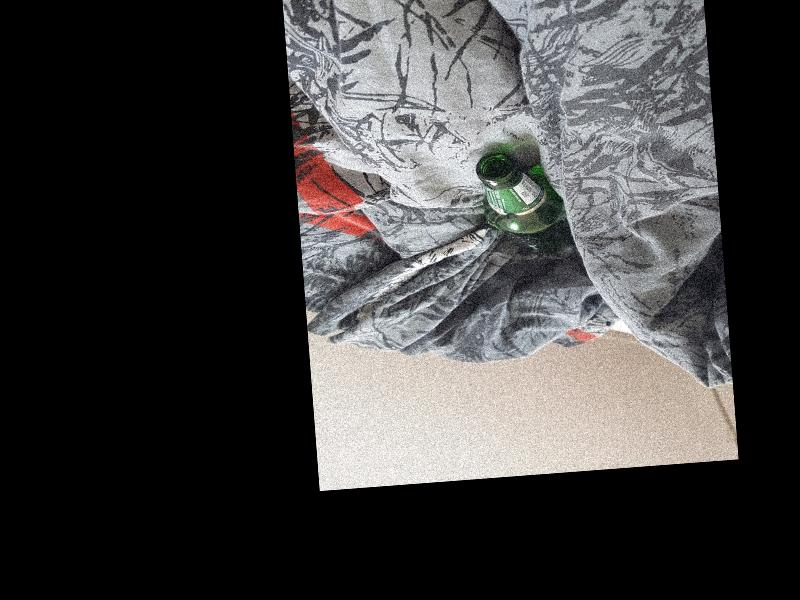Beer: (477, 148, 566, 255)
